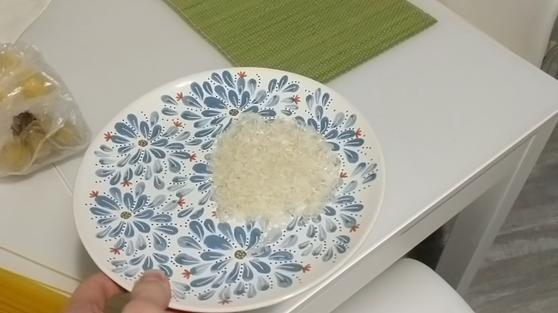rice: (213, 108, 349, 231)
